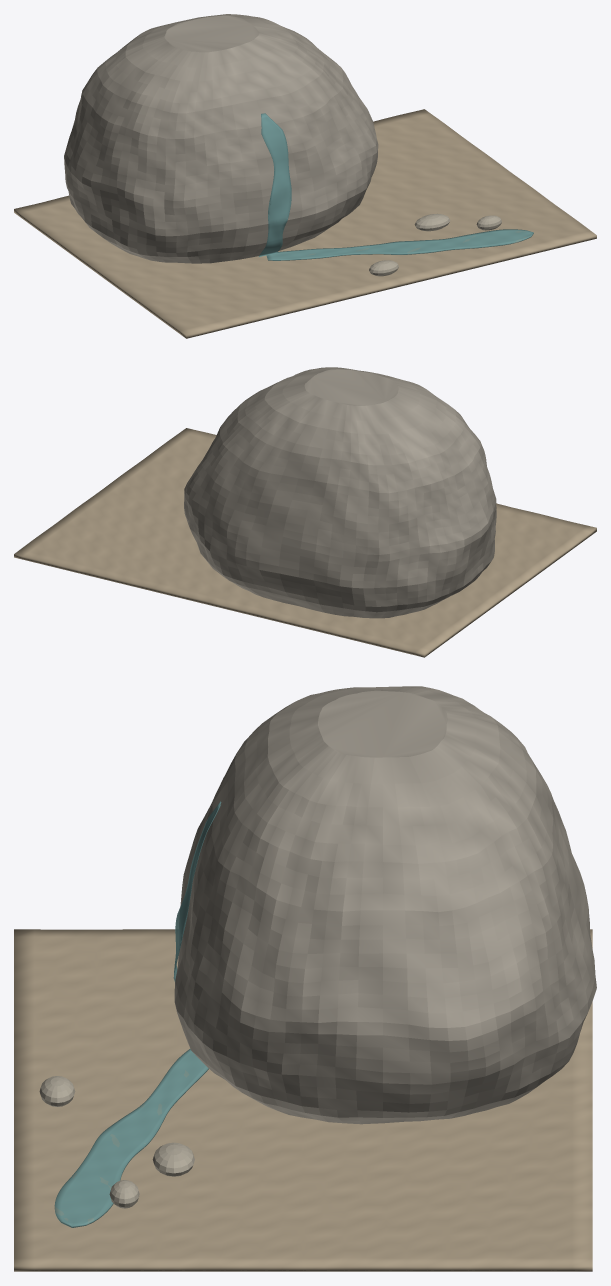
The model's file is sinai-water.glb.
3 renders of one model, top to bottom at view 1: azimuth 30°, elevation 25°; view 2: azimuth 150°, elevation 25°; view 3: azimuth 270°, elevation 25°, orthographic. The views are drawn at different scales.
Parts seen in each view (by area): view 1: sinai-water-sinai-original-rough-rock, sinai-water-sinai-dry-ground-section, sinai-water-sinai-exposed-water-comparison, sinai-water-sinai-original-loose-stone; view 2: sinai-water-sinai-original-rough-rock, sinai-water-sinai-dry-ground-section; view 3: sinai-water-sinai-original-rough-rock, sinai-water-sinai-dry-ground-section, sinai-water-sinai-exposed-water-comparison, sinai-water-sinai-original-loose-stone.
Boxes of the visible parts, x1=… form: sinai-water-sinai-original-rough-rock: x1=64, y1=14, x2=378, y2=263; sinai-water-sinai-dry-ground-section: x1=14, y1=109, x2=596, y2=338; sinai-water-sinai-exposed-water-comparison: x1=258, y1=113, x2=533, y2=260; sinai-water-sinai-original-loose-stone: x1=369, y1=213, x2=501, y2=276; sinai-water-sinai-original-rough-rock: x1=184, y1=367, x2=496, y2=618; sinai-water-sinai-dry-ground-section: x1=14, y1=428, x2=596, y2=657; sinai-water-sinai-original-rough-rock: x1=174, y1=686, x2=596, y2=1124; sinai-water-sinai-dry-ground-section: x1=14, y1=929, x2=592, y2=1271; sinai-water-sinai-exposed-water-comparison: x1=54, y1=801, x2=221, y2=1227; sinai-water-sinai-original-loose-stone: x1=39, y1=1076, x2=194, y2=1208.
Bounding box in the file's own units: 1.1 × 0.49 × 0.8058.
